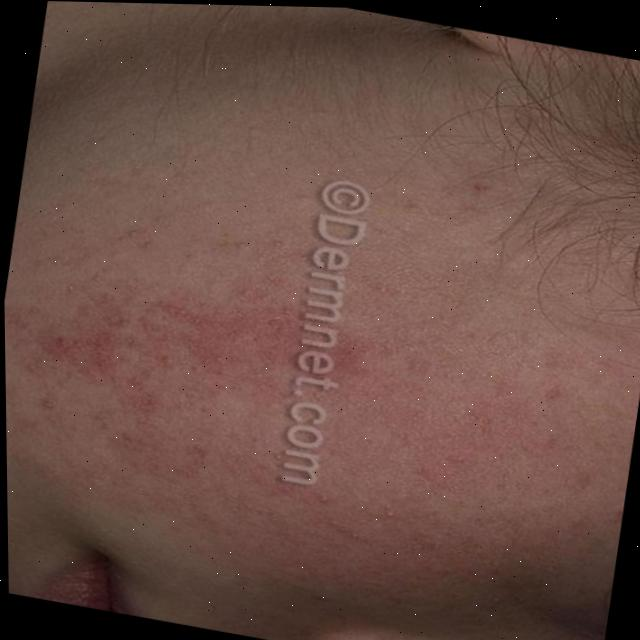Eczema: (42, 131, 529, 610)
